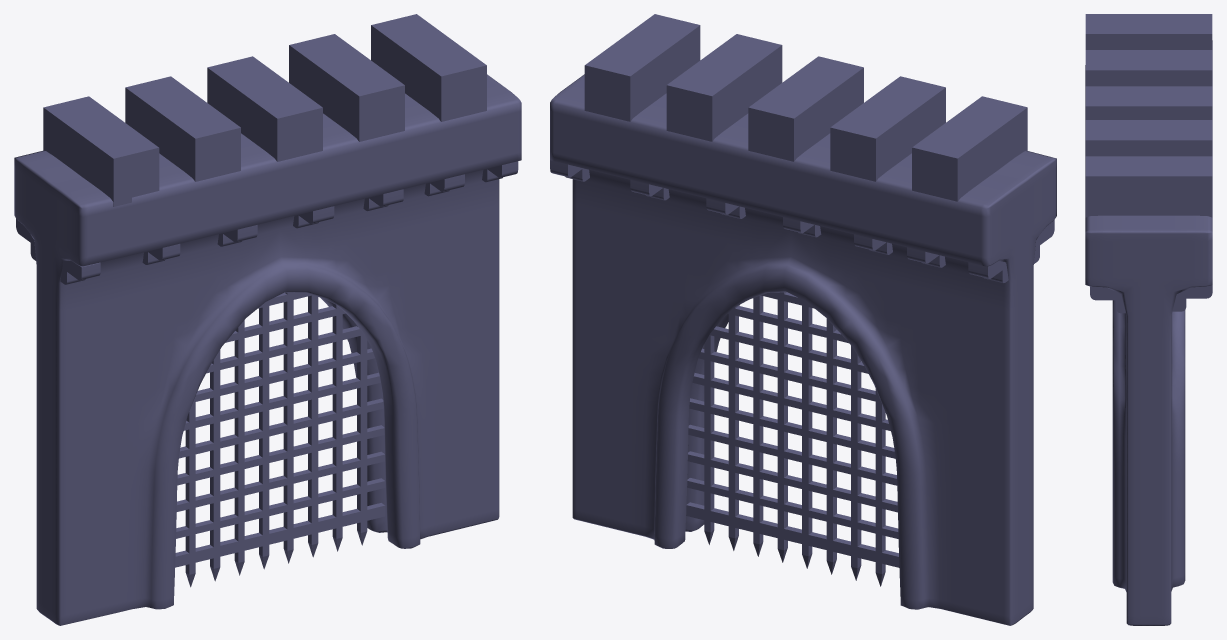
The model's file is portcullises.fbx.
The picture shows the model from 3 angles, left to right: view 1: azimuth 30°, elevation 25°; view 2: azimuth 150°, elevation 25°; view 3: azimuth 270°, elevation 25°; orthographic projection. The views are drawn at different scales.
Visible parts, largest first — view 1: polySurface17, polySurface19, polySurface1, polySurface15, polySurface5, polySurface16, polySurface18, polySurface6; view 2: polySurface17, polySurface19, polySurface15, polySurface5, polySurface1, polySurface16, polySurface18; view 3: polySurface17, polySurface5, polySurface15, polySurface18, polySurface1, polySurface16, polySurface3, polySurface11.
Part boxes in pixels (left/top/right/bottom): polySurface17: left=14, top=74, right=521, bottom=625; polySurface19: left=175, top=292, right=385, bottom=587; polySurface1: left=43, top=96, right=159, bottom=206; polySurface15: left=289, top=34, right=404, bottom=141; polySurface5: left=371, top=14, right=486, bottom=121; polySurface16: left=207, top=56, right=322, bottom=161; polySurface18: left=125, top=76, right=240, bottom=181; polySurface6: left=60, top=260, right=100, bottom=284; polySurface17: left=550, top=74, right=1056, bottom=625; polySurface19: left=686, top=292, right=899, bottom=586; polySurface15: left=666, top=34, right=782, bottom=141; polySurface5: left=584, top=14, right=700, bottom=121; polySurface1: left=912, top=96, right=1027, bottom=201; polySurface16: left=748, top=56, right=863, bottom=161; polySurface18: left=830, top=76, right=945, bottom=181; polySurface17: left=1085, top=40, right=1212, bottom=625; polySurface5: left=1085, top=156, right=1212, bottom=217; polySurface15: left=1085, top=120, right=1212, bottom=156; polySurface18: left=1085, top=50, right=1212, bottom=86; polySurface1: left=1085, top=14, right=1212, bottom=49; polySurface16: left=1085, top=86, right=1212, bottom=119; polySurface3: left=1172, top=285, right=1212, bottom=311; polySurface11: left=1090, top=286, right=1125, bottom=313.
Bounding box in the file's own units: 15.79 × 16.56 × 4.37.
